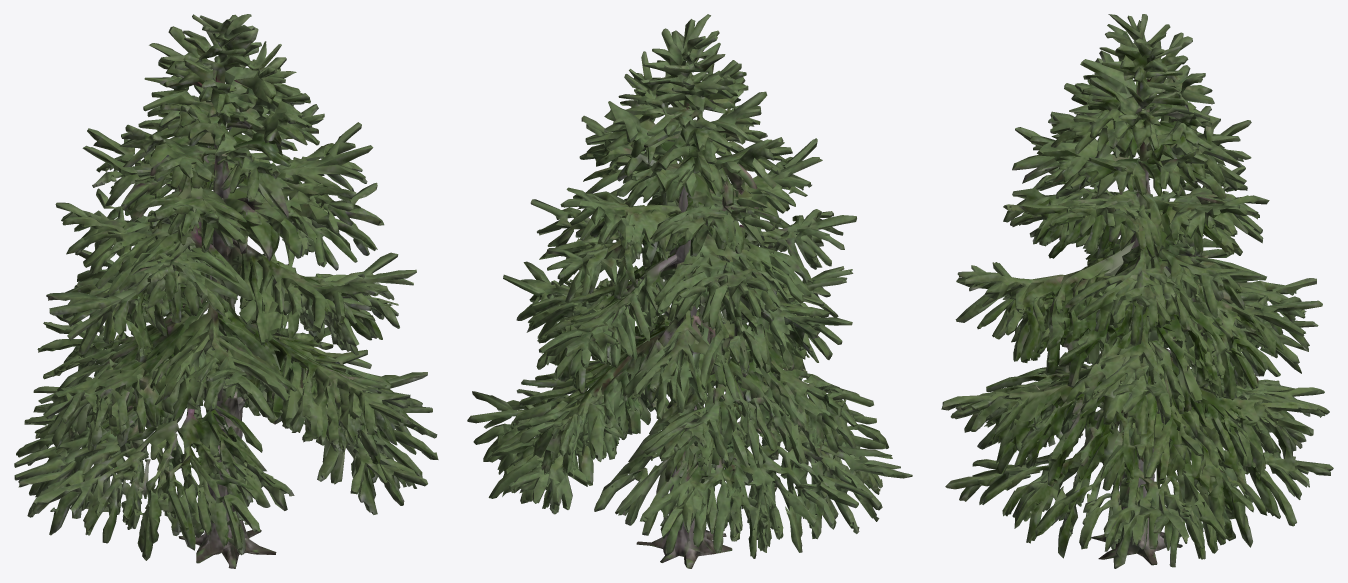
File: fir-30k.glb
3 views of the same model, side by side, from view 1: azimuth 30°, elevation 25°; view 2: azimuth 150°, elevation 25°; view 3: azimuth 270°, elevation 25° (orthographic). The views are drawn at different scales.
Visible parts, largest first — view 1: geometry_0; view 2: geometry_0; view 3: geometry_0.
Boxes of the visible parts, bbox=[...] form: geometry_0: bbox=[14, 14, 438, 568]; geometry_0: bbox=[467, 14, 912, 568]; geometry_0: bbox=[941, 14, 1333, 568].
Size of the model in its own units: 6.56 by 8 by 5.39.
1 material, 1 textured.
